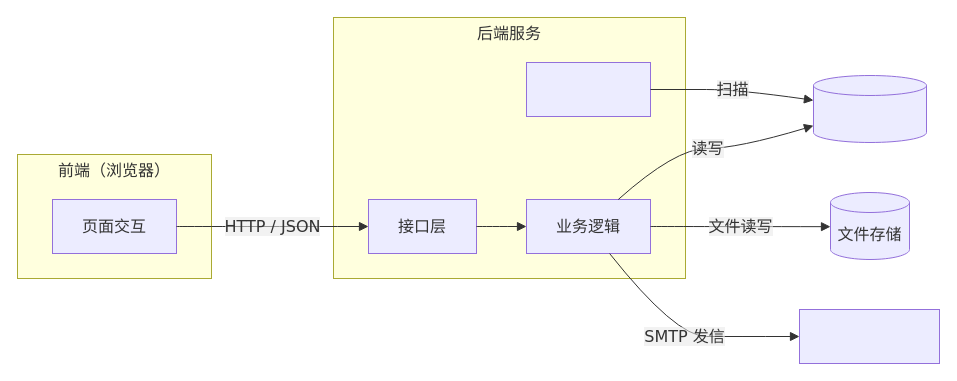
Image size: 957x381. Some labels were removed from this diagram. Each missing label, with the centre of its shape:
MySQL 数据库: the point at 869,108
定时任务: the point at 588,89
邮件服务器: the point at 869,336
